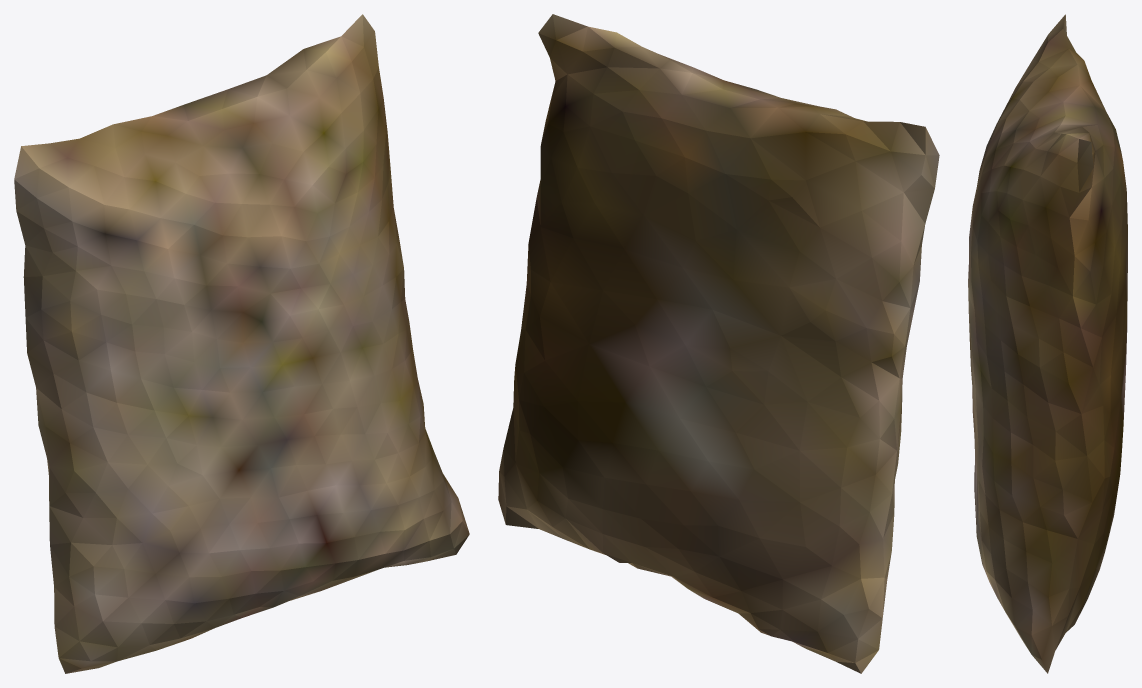
The model's file is coffee-sack2.dae.
3 views of the same model, side by side, from view 1: azimuth 30°, elevation 25°; view 2: azimuth 150°, elevation 25°; view 3: azimuth 270°, elevation 25° (orthographic). The views are drawn at different scales.
Parts seen in each view (by area): view 1: node; view 2: node; view 3: node.
Boxes of the visible parts, <box> form: node: <box>14,14,469,673</box>; node: <box>498,14,939,673</box>; node: <box>968,14,1127,673</box>.
Bounding box in the file's own units: 0.7051 × 0.8805 × 0.2364.
